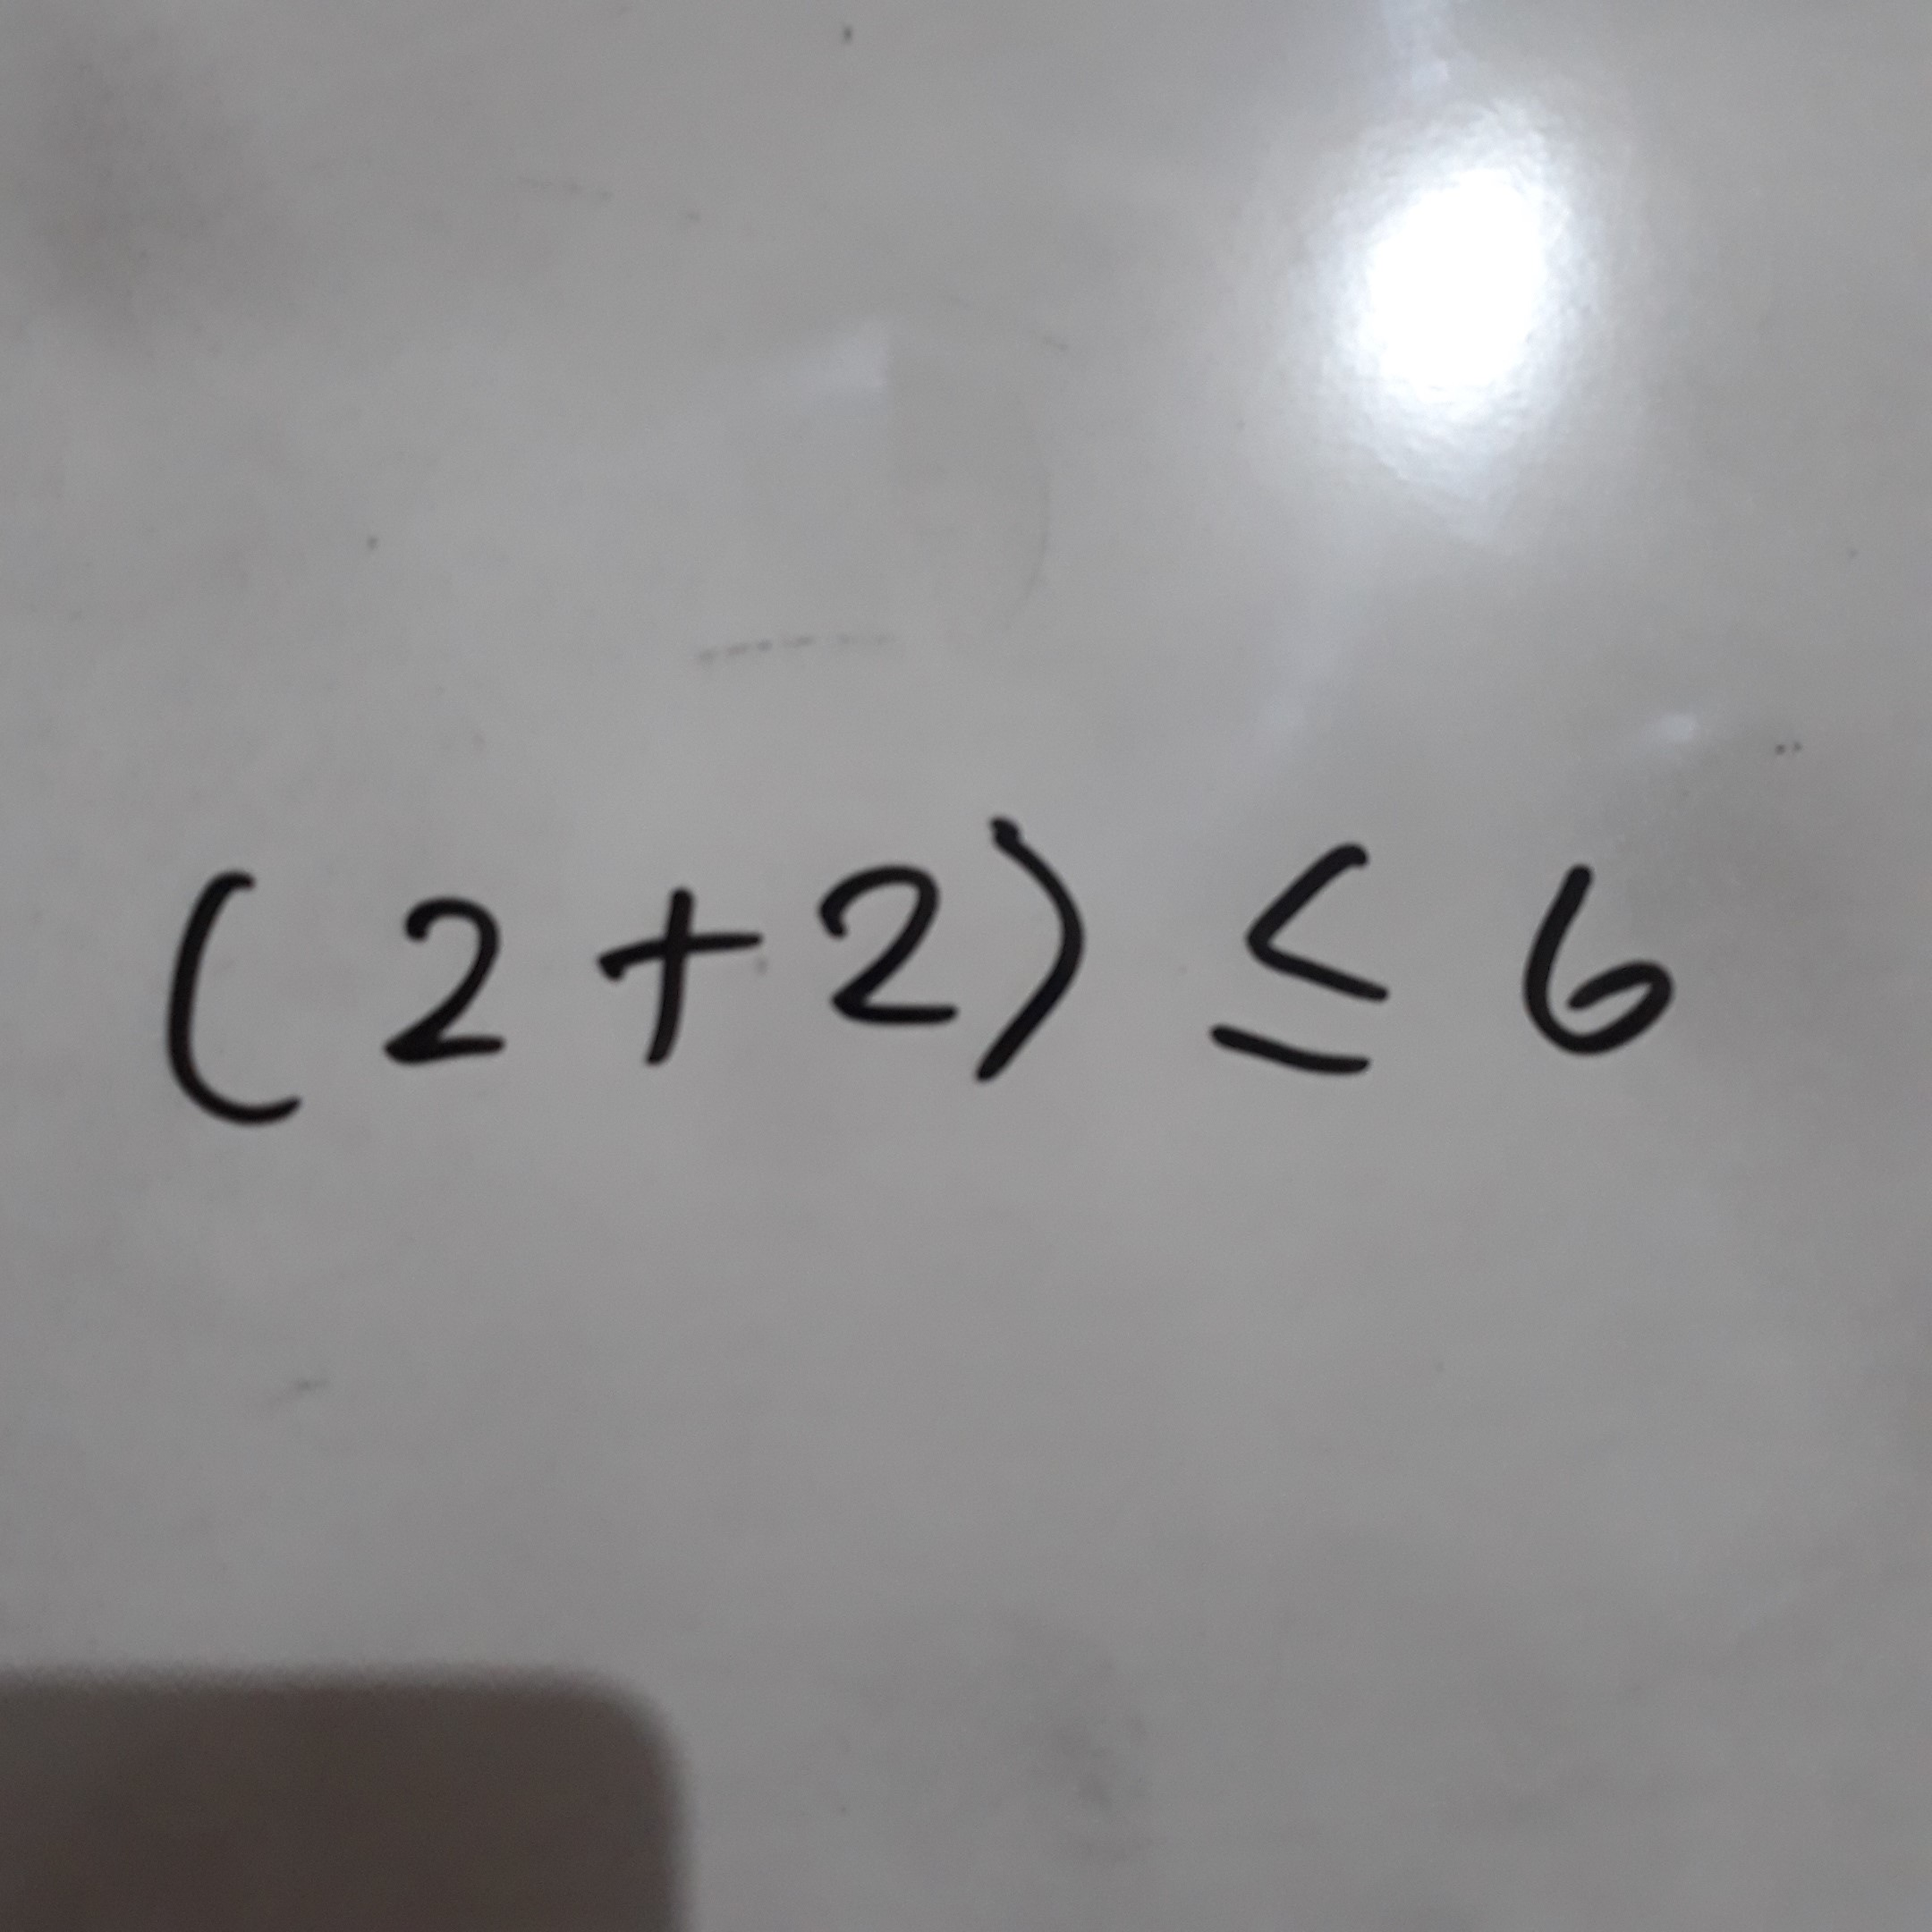closebracket: (962, 780, 1116, 1104)
lessthan-equal: (1201, 792, 1422, 1117)
num2: (798, 856, 968, 1050), (375, 888, 519, 1083)
num6: (1495, 849, 1694, 1067)
openbracket: (151, 854, 337, 1148)
sum: (576, 857, 774, 1085)
